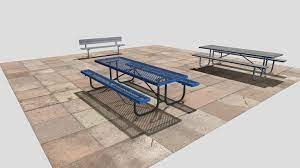obstacle: (78, 57, 200, 122), (189, 43, 288, 85)
